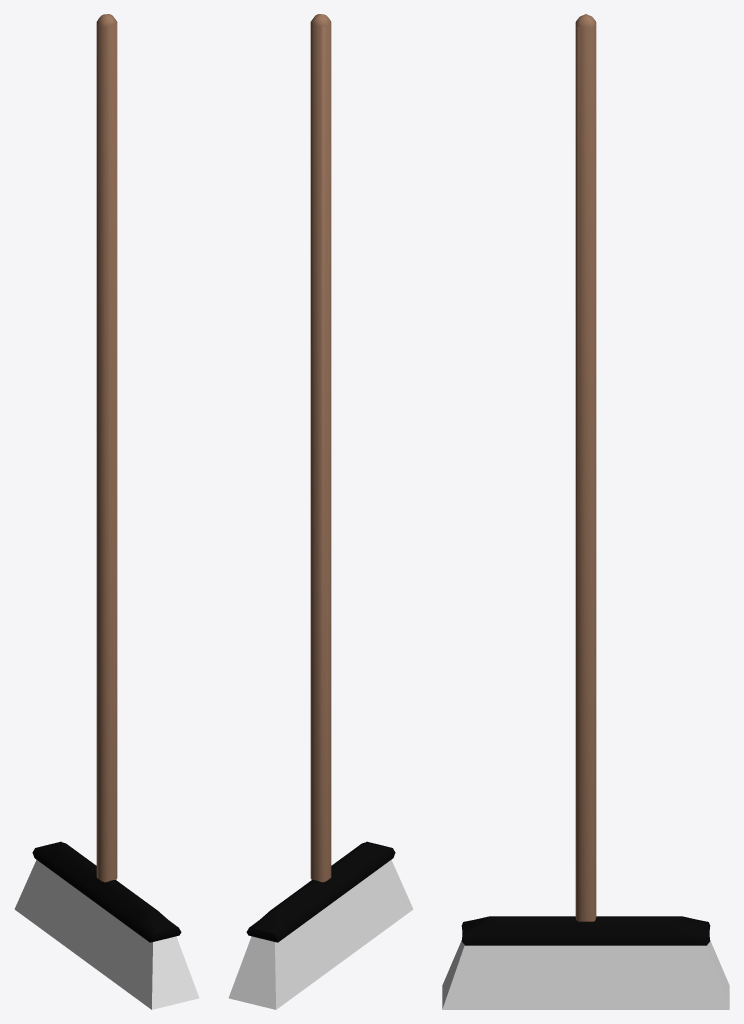
Rendered from Broom.FBX.
3 renders of one model, left to right at view 1: azimuth 30°, elevation 25°; view 2: azimuth 150°, elevation 25°; view 3: azimuth 270°, elevation 25°, orthographic. The views are drawn at different scales.
Parts seen in each view (by area): view 1: LaundryBrush; view 2: LaundryBrush; view 3: LaundryBrush.
Part boxes in pixels (box(x1,y1,x2,y2)): LaundryBrush: box(14, 14, 199, 1009); LaundryBrush: box(228, 14, 413, 1009); LaundryBrush: box(442, 14, 729, 1009).
Size of the model in its own units: 8.77 by 165 by 43.69.
